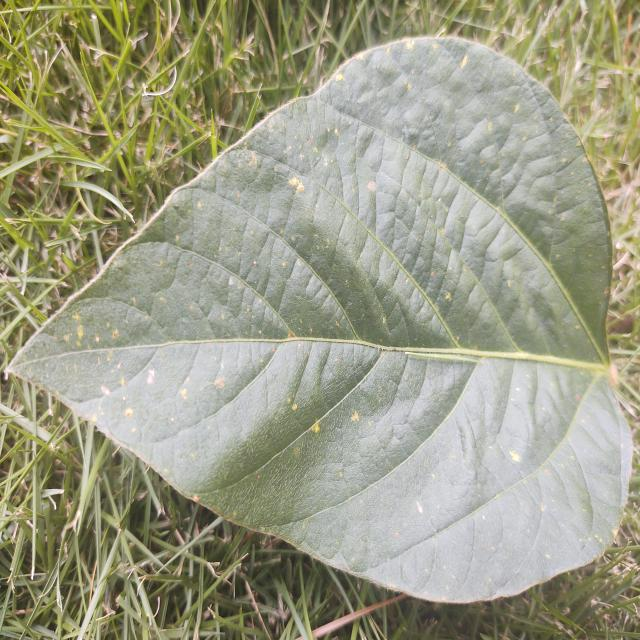Soybean: (6, 35, 634, 607)
downey_mildew: (214, 167, 349, 342), (321, 165, 440, 346), (518, 206, 609, 363), (136, 245, 287, 334), (309, 216, 422, 331), (445, 228, 529, 348), (302, 357, 381, 440), (449, 50, 493, 178), (435, 347, 626, 373), (494, 440, 544, 534), (483, 79, 508, 229), (412, 412, 452, 496), (290, 342, 331, 410)
